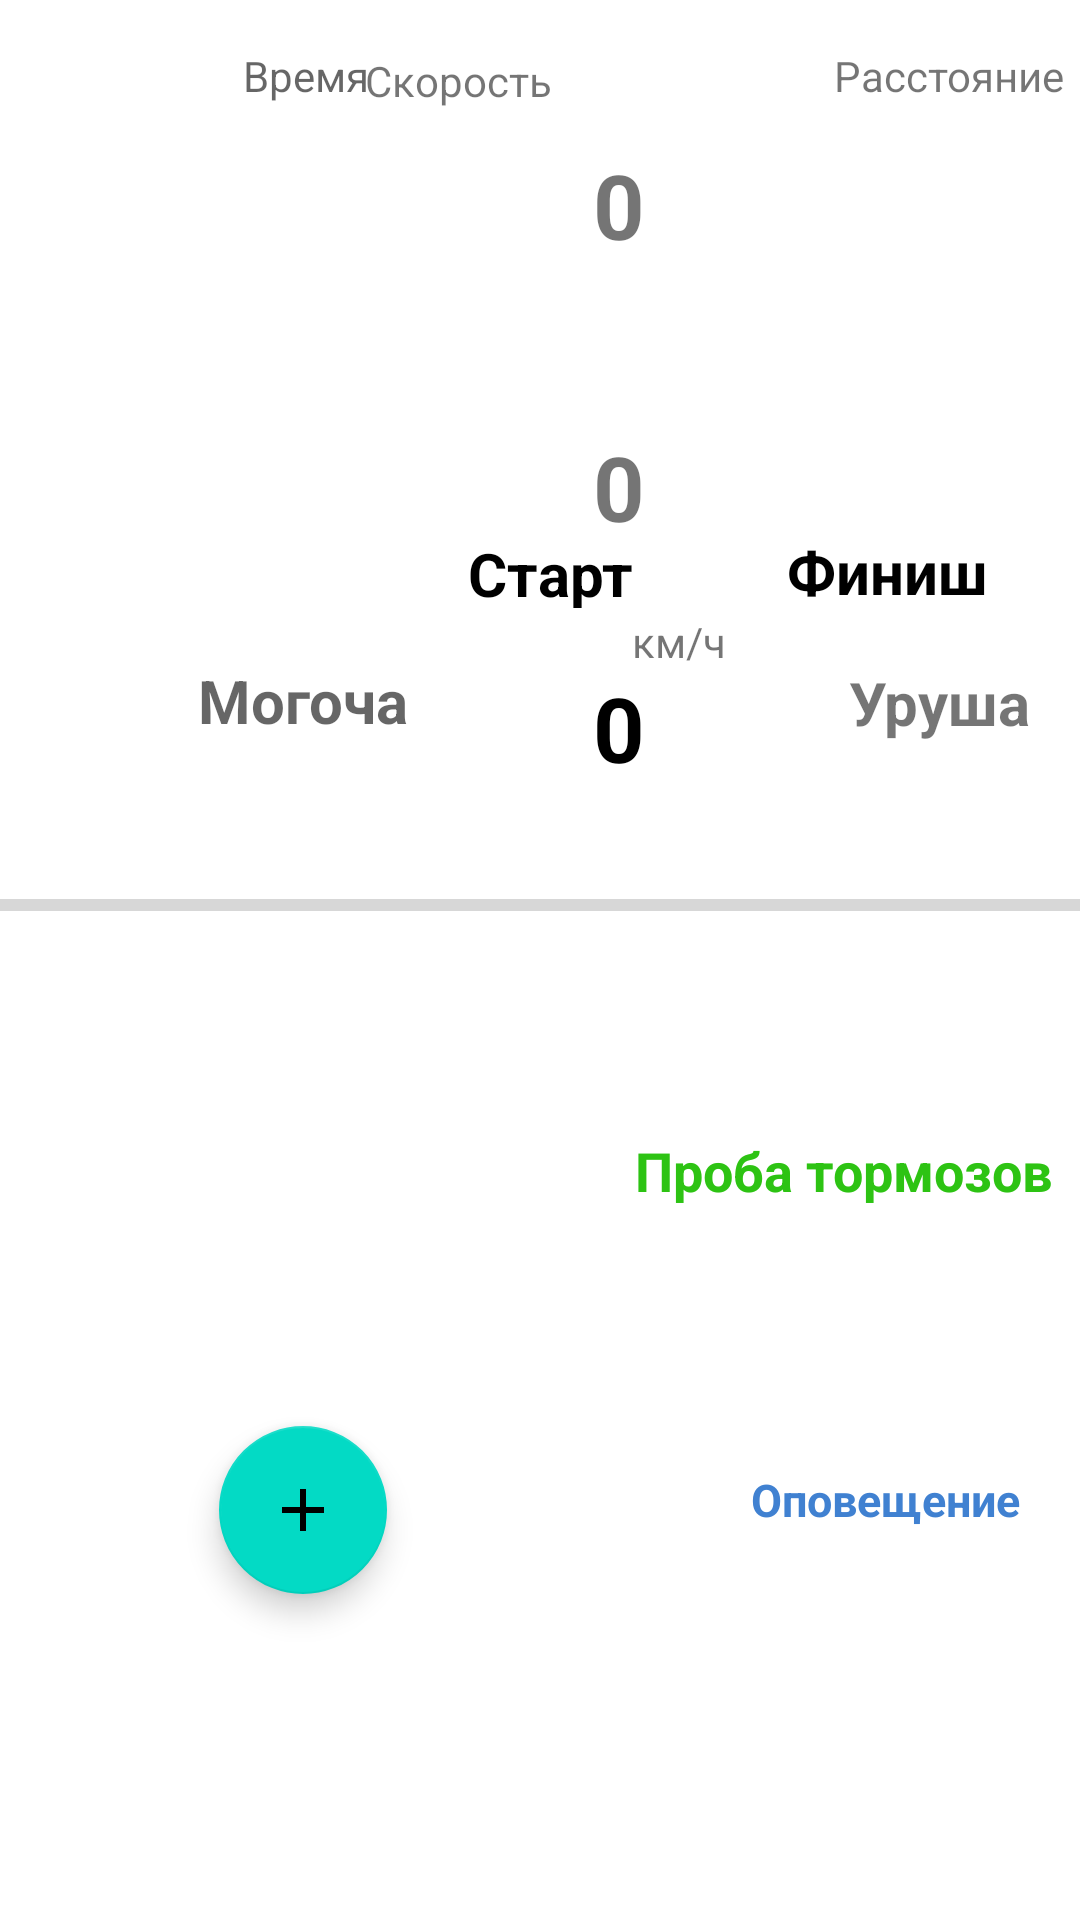

Locate icon controls on the screen. Image size 1080 × 1920, boxes as (x1,y1,x2,y2).
add: (219,1426,387,1594)
